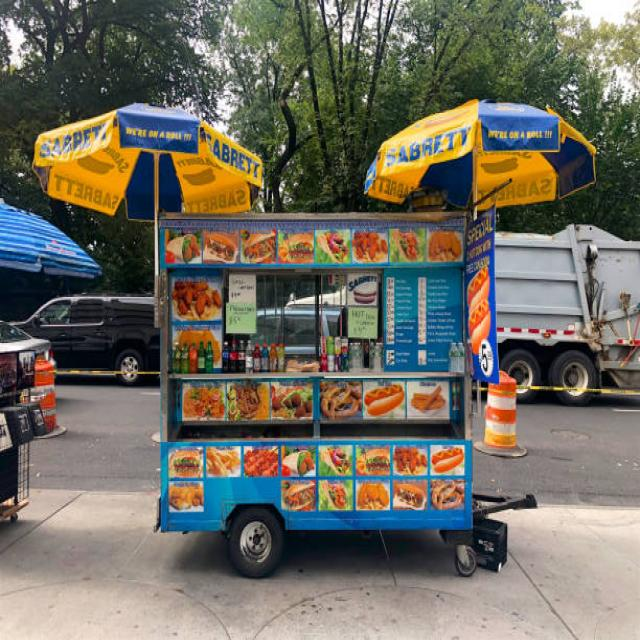Emperan: (31, 94, 606, 592)
